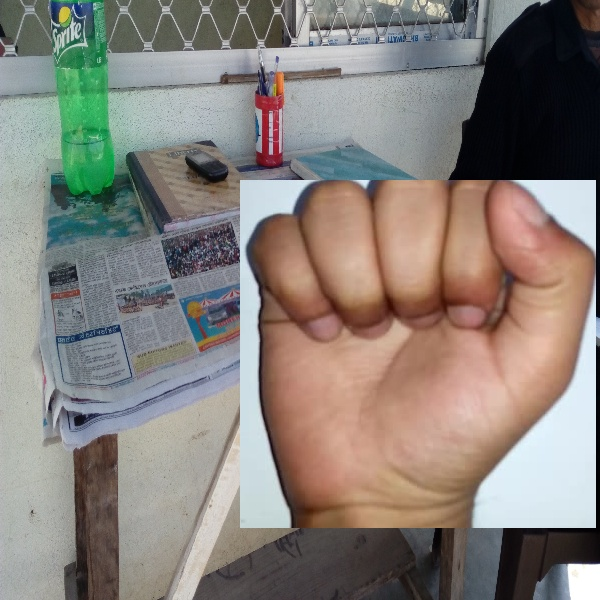A: (240, 180, 596, 528)
